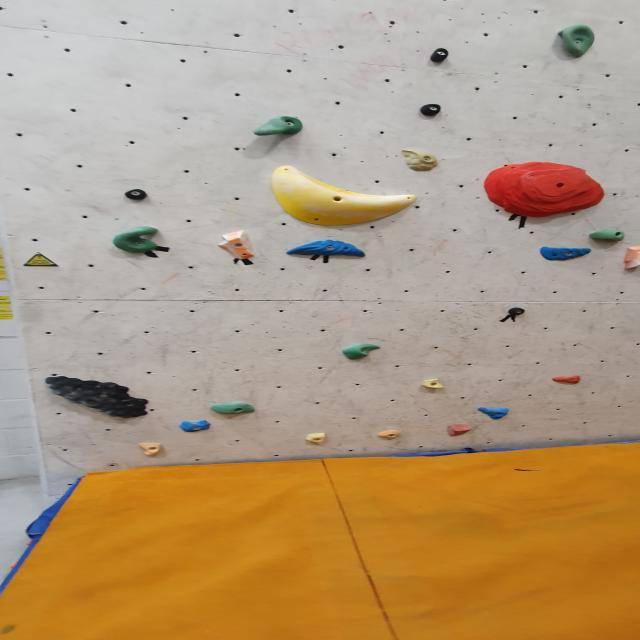Crimp: (483, 159, 609, 222), (284, 240, 368, 258), (393, 147, 446, 173), (537, 246, 594, 262), (474, 406, 515, 419), (139, 440, 165, 460), (179, 420, 215, 433), (547, 373, 586, 384), (443, 424, 470, 438), (422, 376, 448, 390), (304, 432, 328, 445), (377, 430, 403, 440)
Jug: (111, 228, 166, 258), (554, 24, 600, 59), (252, 115, 305, 138), (339, 344, 384, 362), (211, 402, 257, 415), (589, 229, 627, 244)
Pinch: (210, 229, 263, 261), (617, 242, 640, 273), (417, 101, 443, 119), (426, 47, 454, 63), (122, 188, 152, 202), (505, 306, 533, 318)
Sloper: (269, 165, 423, 232), (40, 372, 156, 420)
